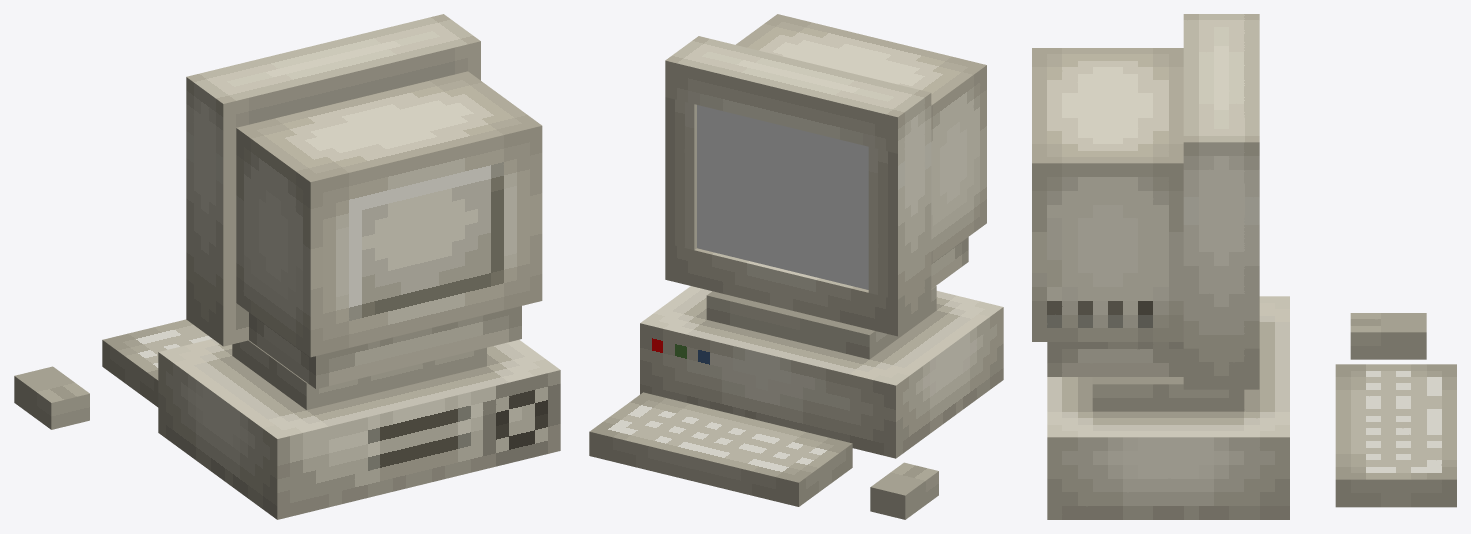
Rendered from retro_computer.glb.
3 views of the same model, side by side, from view 1: azimuth 30°, elevation 25°; view 2: azimuth 150°, elevation 25°; view 3: azimuth 270°, elevation 25° (orthographic). The views are drawn at different scales.
Visible parts, largest first — view 1: cube_8, cube_0, cube_4, cube_9, cube_6, cube_1, cube_10, cube_11, cube_3; view 2: cube_0, Plane, cube_8, cube_10, cube_4, cube_3, cube_6, cube_1, cube_5, cube_11, cube_9; view 3: cube_8, cube_0, cube_10, cube_4, cube_5, cube_9, cube_1, cube_11, cube_3.
Part boxes in pixels (bbox=[...]): cube_8: bbox=[236, 71, 542, 357]; cube_0: bbox=[158, 339, 560, 519]; cube_4: bbox=[186, 14, 480, 144]; cube_9: bbox=[249, 306, 521, 389]; cube_6: bbox=[186, 117, 236, 305]; cube_1: bbox=[232, 340, 486, 410]; cube_10: bbox=[102, 319, 212, 407]; cube_11: bbox=[14, 366, 89, 429]; cube_3: bbox=[186, 279, 248, 346]; cube_0: bbox=[640, 286, 1003, 458]; Plane: bbox=[697, 105, 868, 289]; cube_8: bbox=[735, 14, 986, 263]; cube_10: bbox=[589, 392, 852, 506]; cube_4: bbox=[665, 36, 931, 153]; cube_3: bbox=[665, 243, 931, 336]; cube_6: bbox=[868, 129, 931, 299]; cube_1: bbox=[706, 286, 936, 359]; cube_5: bbox=[665, 97, 696, 249]; cube_11: bbox=[870, 462, 938, 519]; cube_9: bbox=[931, 237, 968, 288]; cube_8: bbox=[1032, 48, 1183, 341]; cube_0: bbox=[1047, 296, 1289, 519]; cube_10: bbox=[1335, 364, 1456, 507]; cube_4: bbox=[1183, 14, 1259, 183]; cube_5: bbox=[1183, 183, 1259, 348]; cube_9: bbox=[1047, 342, 1183, 376]; cube_1: bbox=[1092, 377, 1244, 411]; cube_11: bbox=[1350, 313, 1426, 359]; cube_3: bbox=[1183, 348, 1259, 389].
Size of the model in its own units: 1.75 by 1.69 by 1.75.
Materials: 1 (1 with a texture image).
